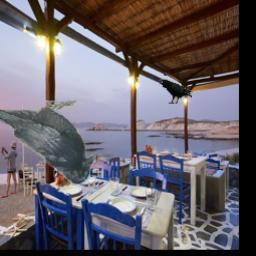Crow: (0, 102, 94, 186), (160, 79, 193, 104)
